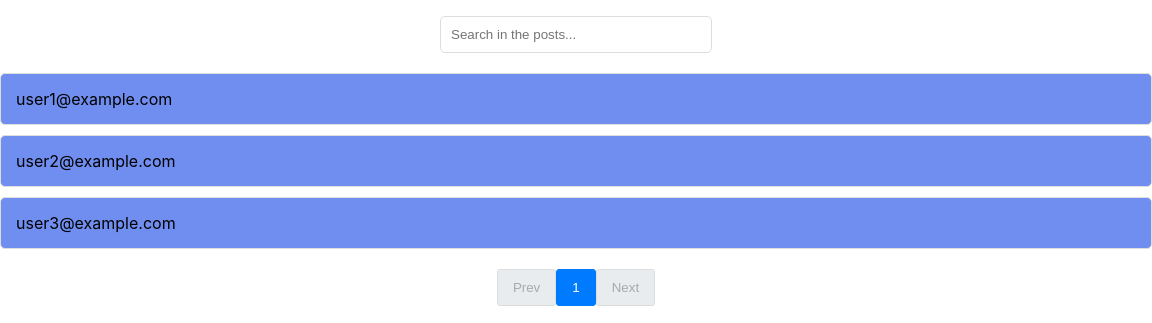
Comments Component › filters comments based on search input
Type "user2" into the field with placeholder "Search in the posts..." at (576, 34), box [440,16,712,53]
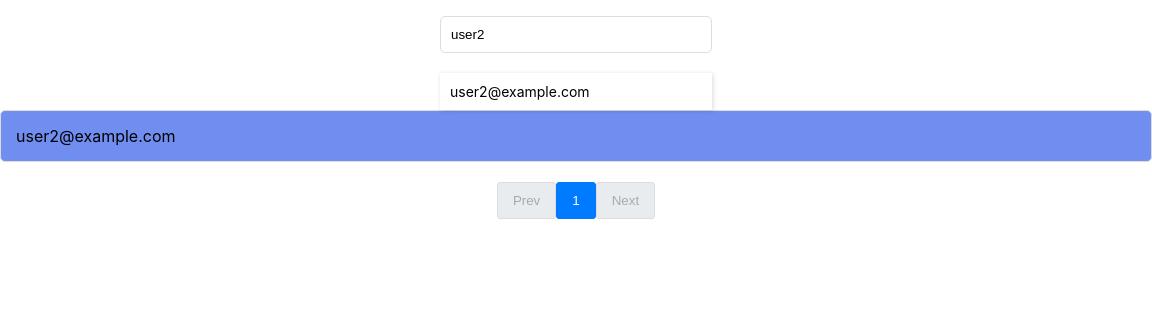
Expected: the 1st list item "user2@example.com" is shown, [450,83,590,100]
Expected: the list item "user1@example.com" is gone
Expected: the list item "user3@example.com" is gone
